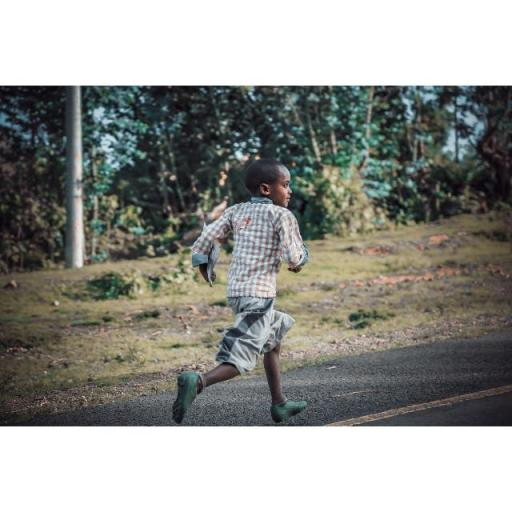Running: (170, 152, 334, 421)
